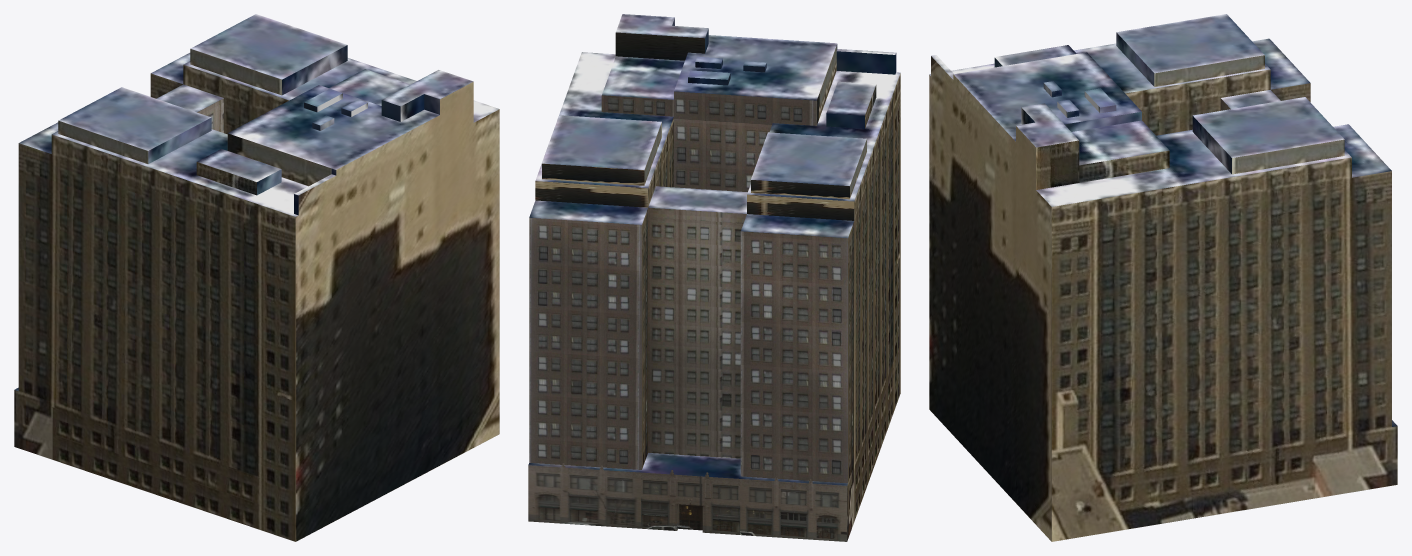
The model's file is building3.obj.
3 views of the same model, side by side, from view 1: azimuth 30°, elevation 25°; view 2: azimuth 150°, elevation 25°; view 3: azimuth 270°, elevation 25° (orthographic). The views are drawn at different scales.
Parts seen in each view (by area): view 1: mesh1; view 2: mesh1; view 3: mesh1.
Part boxes in pixels (x1=…): mesh1: x1=14, y1=14, x2=499, y2=541; mesh1: x1=528, y1=14, x2=900, y2=541; mesh1: x1=929, y1=14, x2=1397, y2=541.
Size of the model in its own units: 2272 by 2108 by 2372.
21 materials, 20 textured.
